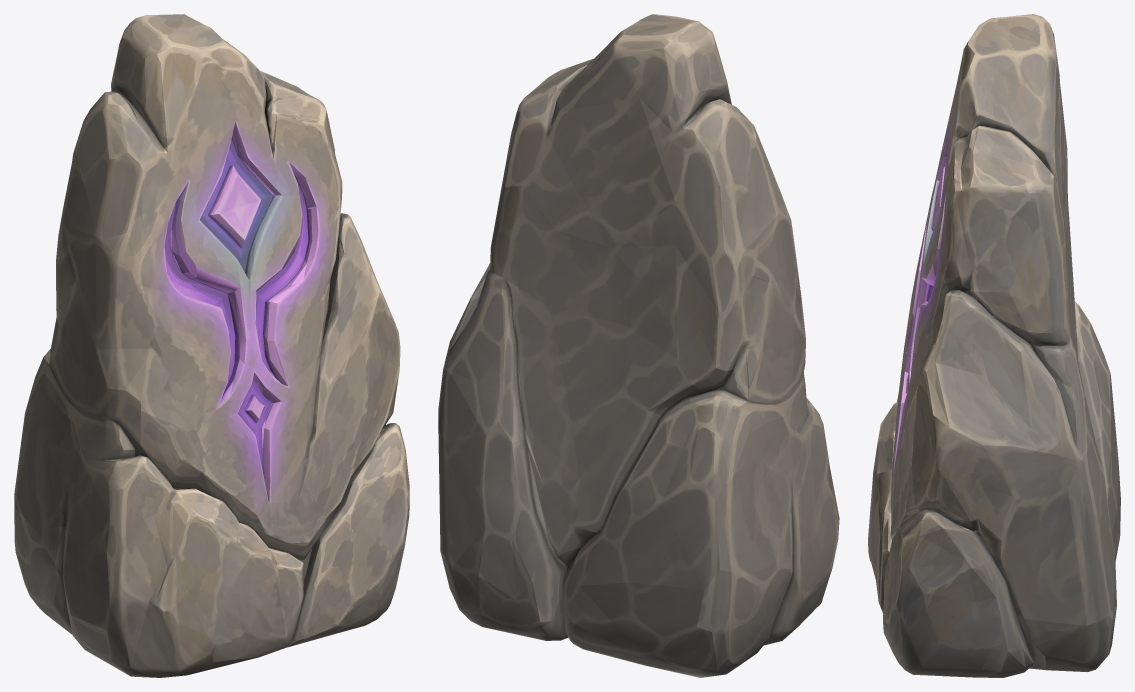
File: rune-stone.hq.glb
3 renders of one model, left to right at view 1: azimuth 30°, elevation 25°; view 2: azimuth 150°, elevation 25°; view 3: azimuth 270°, elevation 25°, orthographic. The views are drawn at different scales.
Parts seen in each view (by area): view 1: output_unwrapped; view 2: output_unwrapped; view 3: output_unwrapped.
Boxes of the visible parts, x1=… form: output_unwrapped: x1=14, y1=14, x2=409, y2=677; output_unwrapped: x1=438, y1=14, x2=839, y2=677; output_unwrapped: x1=868, y1=14, x2=1120, y2=677.
Bounding box in the file's own units: 1.05 × 1.9 × 0.7571.
Materials: 1 (1 with a texture image).
